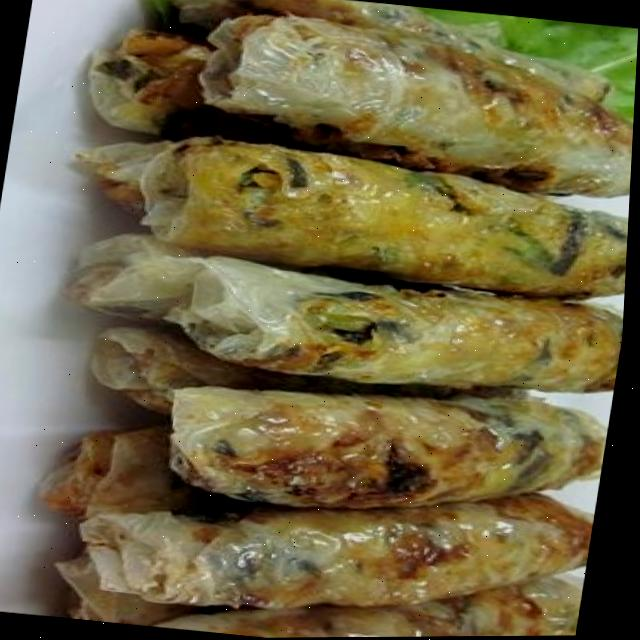炸货点心: (53, 0, 640, 640)
